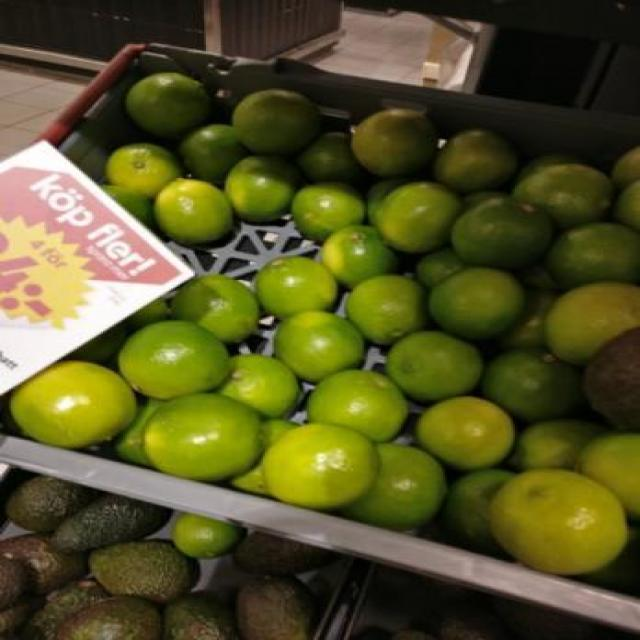Avocado: (87, 539, 201, 599), (4, 465, 109, 527), (243, 574, 322, 639), (61, 599, 164, 639)
